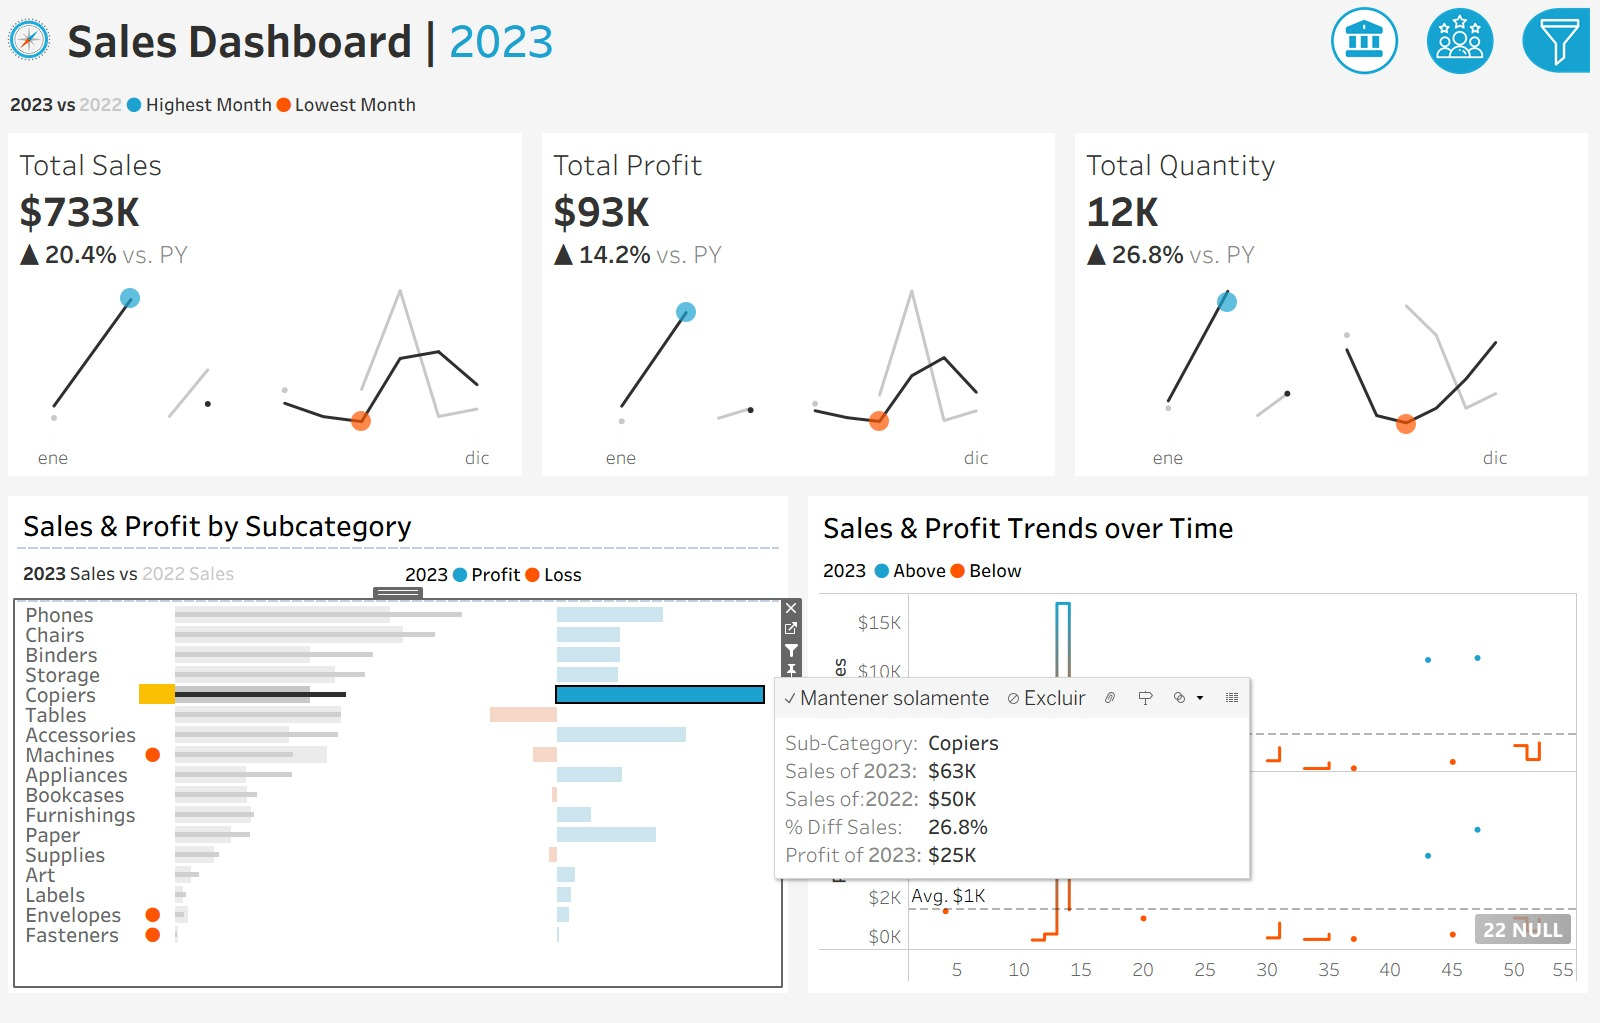

The page's visual inventory and layout, read from the dashboard file:
{"tool":"tableau","page":{"name":"Sales Dashboard","canvas":[1600,1000],"ordinal":1},"visuals":[{"type":"image","param":"C:/Users/thean/Documents/Tableau/Curso Udemy/sales-dashboard-project (1)/sales-d","box":[0,0,61,72]},{"type":"text","box":[61,0,866,72]},{"type":"blank","box":[1244.7,10,342.7,90]},{"type":"worksheet","title":"Legends KPI","mark":"Automatic","box":[0,72,1600,58]},{"type":"text","box":[1244.7,100,342.7,47]},{"type":"worksheet","title":"KPI Sales","mark":"Automatic","rows":["Calculation_0924144765349892"],"cols":["Order Date"],"box":[0,130,534,353]},{"type":"worksheet","title":"KPI Profit","mark":"Automatic","rows":["Calculation_1171260201799683"],"cols":["Order Date"],"box":[534,130,533,353]},{"type":"worksheet","title":"KPI Quantity","mark":"Automatic","rows":["Calculation_1171260283650057"],"cols":["Order Date"],"box":[1067,130,533,353]},{"type":"parameter","param":"[Parameters].[Parámetro 1]","box":[1244.7,147,342.7,60]},{"type":"text","box":[1244.7,207,342.7,42]},{"type":"filter","title":"KPI Sales","param":"[federated.1usaflp05rs750141jv3z0yhu4k8].[none:Category:nk]","box":[1244.7,249,342.7,70]},{"type":"filter","title":"KPI Sales","param":"[federated.1usaflp05rs750141jv3z0yhu4k8].[none:Sub-Category:nk]","box":[1244.7,319,342.7,70]},{"type":"text","box":[1244.7,389,342.7,42]},{"type":"filter","title":"KPI Sales","param":"[federated.1usaflp05rs750141jv3z0yhu4k8].[none:Region:nk]","box":[1244.7,431,342.7,70]},{"type":"text","box":[17,500,766,44]},{"type":"text","box":[817,500,766,47]},{"type":"filter","title":"KPI Sales","param":"[federated.1usaflp05rs750141jv3z0yhu4k8].[none:State:nk]","box":[1244.7,501,342.7,70]},{"type":"worksheet","title":"Legends Subcategories","mark":"Automatic","box":[17,544,382,53]},{"type":"text","box":[399,544,384,53]},{"type":"text","box":[817,547,766,39]},{"type":"filter","title":"KPI Sales","param":"[federated.1usaflp05rs750141jv3z0yhu4k8].[none:City:nk]","box":[1244.7,571,342.7,70]},{"type":"worksheet","title":"Weekly Trends","mark":"Automatic","rows":["Calculation_0924144758165504","Calculation_1171260200882176"],"cols":["Order Date"],"box":[817,586,766,397]},{"type":"worksheet","title":"Subcategory Comparison","mark":"Bar","rows":["Sub-Category","Calculation_1171260304085005"],"cols":["CY sales (copia)_0924144758652929","Calculation_0924144758165504","Calculation_1171260200882176"],"box":[17,597,766,386]}]}

Visuals, with their boxes in screenshot pixels (x1, y1, x2, y2), scaled from the page's 1600x1000 canvas onto the 1600x1023 screenshot:
image: [left=0, top=0, right=61, bottom=74]
text: [left=61, top=0, right=927, bottom=74]
blank: [left=1245, top=10, right=1587, bottom=102]
"Legends KPI" worksheet: [left=0, top=74, right=1599, bottom=133]
text: [left=1245, top=102, right=1587, bottom=150]
"KPI Sales" worksheet: [left=0, top=133, right=534, bottom=494]
"KPI Profit" worksheet: [left=534, top=133, right=1067, bottom=494]
"KPI Quantity" worksheet: [left=1067, top=133, right=1599, bottom=494]
parameter: [left=1245, top=150, right=1587, bottom=212]
text: [left=1245, top=212, right=1587, bottom=255]
"KPI Sales" filter: [left=1245, top=255, right=1587, bottom=326]
"KPI Sales" filter: [left=1245, top=326, right=1587, bottom=398]
text: [left=1245, top=398, right=1587, bottom=441]
"KPI Sales" filter: [left=1245, top=441, right=1587, bottom=513]
text: [left=17, top=511, right=783, bottom=557]
text: [left=817, top=511, right=1583, bottom=560]
"KPI Sales" filter: [left=1245, top=513, right=1587, bottom=584]
"Legends Subcategories" worksheet: [left=17, top=557, right=399, bottom=611]
text: [left=399, top=557, right=783, bottom=611]
text: [left=817, top=560, right=1583, bottom=599]
"KPI Sales" filter: [left=1245, top=584, right=1587, bottom=656]
"Weekly Trends" worksheet: [left=817, top=599, right=1583, bottom=1006]
"Subcategory Comparison" worksheet (Bar marks): [left=17, top=611, right=783, bottom=1006]
